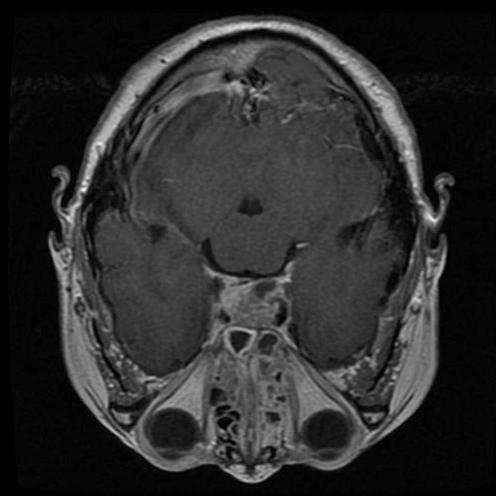Tumour-Pituitary: (210, 265, 290, 329)
